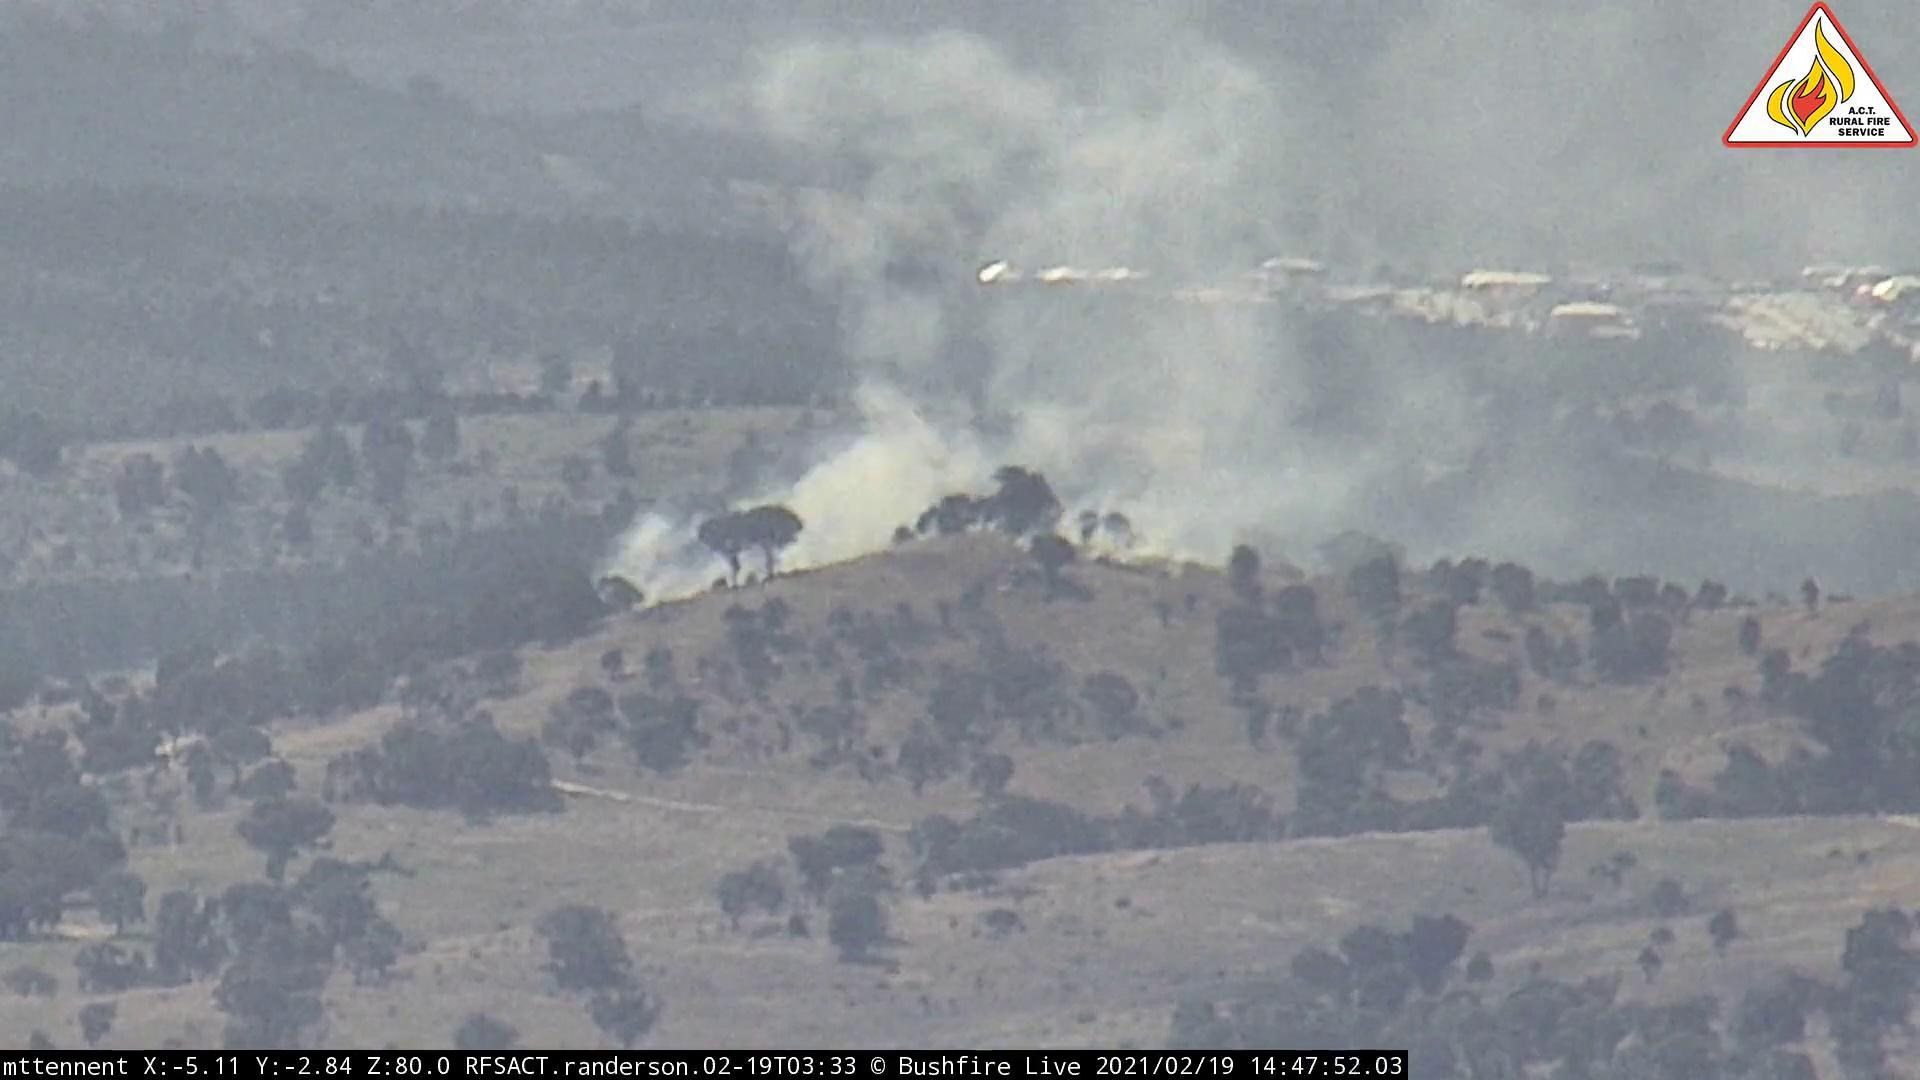Smoke: (608, 3, 1717, 616)
